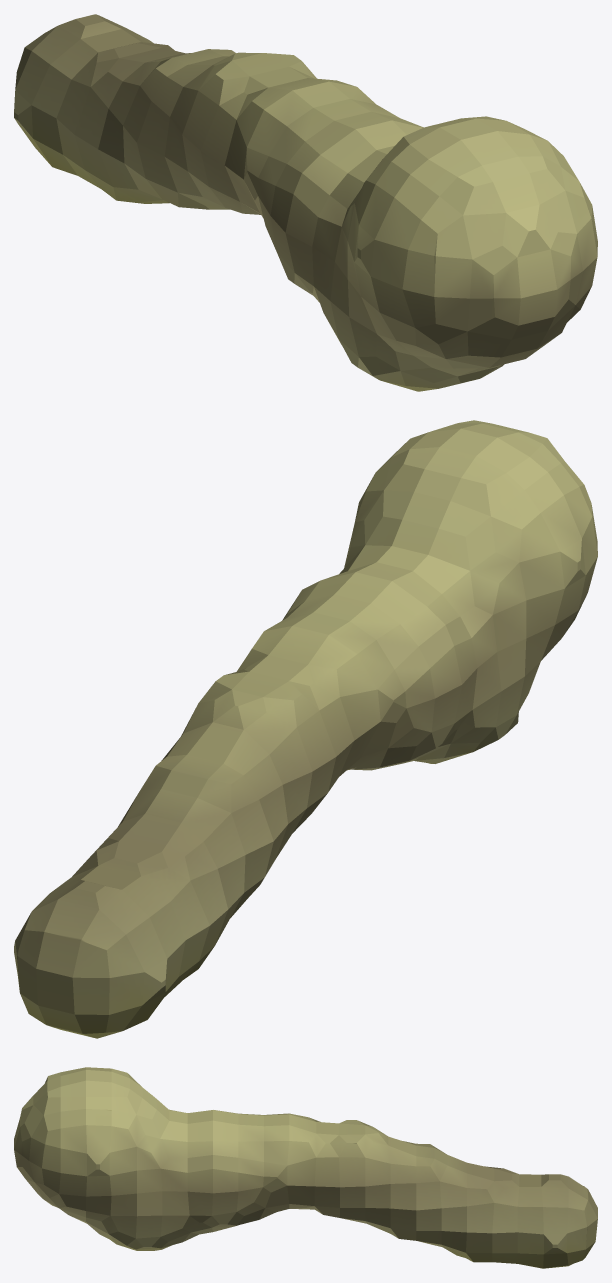
The model's file is centipede.glb.
3 views of the same model, one above another, from view 1: azimuth 30°, elevation 25°; view 2: azimuth 150°, elevation 25°; view 3: azimuth 270°, elevation 25° (orthographic). The views are drawn at different scales.
Visible parts, largest first — view 1: geometry_0; view 2: geometry_0; view 3: geometry_0.
Boxes of the visible parts, box(x1,y1,x2,y2) form: geometry_0: box(14, 14, 597, 391); geometry_0: box(14, 420, 597, 1038); geometry_0: box(14, 1067, 597, 1268).
Bounding box in the file's own units: 0.6853 × 0.9299 × 2.62.
Materials: 1 (1 with a texture image).
